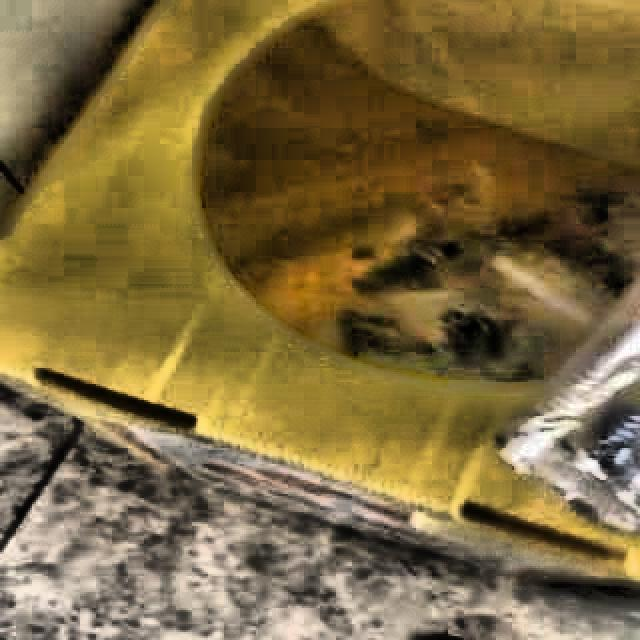plastic: (501, 284, 640, 534)
